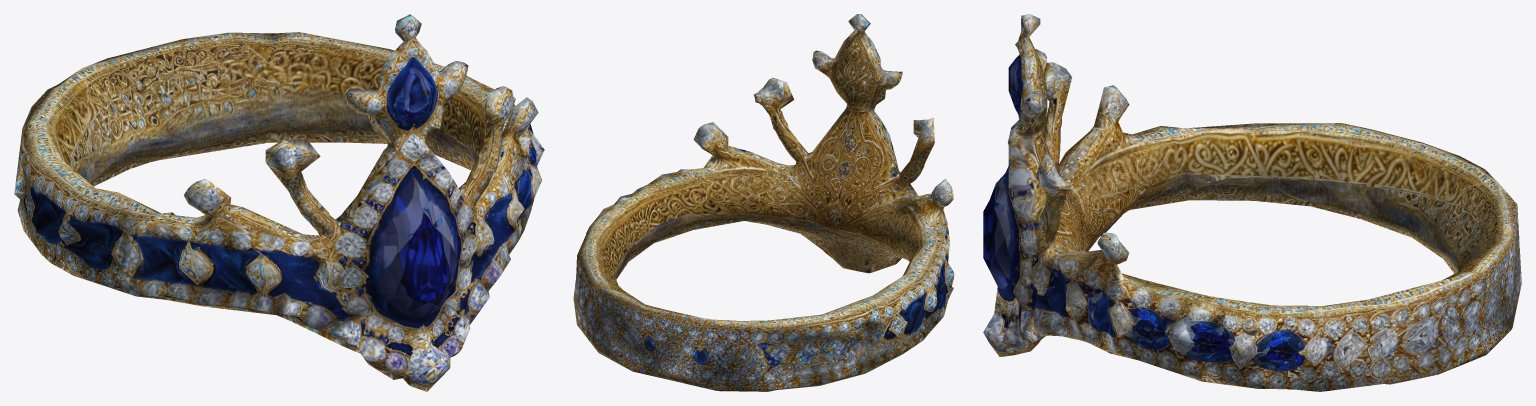
File: Royal_Kings_crown_ornate_jewels_and_gold__0616144502_refine.glb
The picture shows the model from 3 angles, left to right: view 1: azimuth 30°, elevation 25°; view 2: azimuth 150°, elevation 25°; view 3: azimuth 270°, elevation 25°; orthographic projection. The views are drawn at different scales.
Bounding box in the file's own units: 1.1 × 0.8376 × 1.19.
1 material, 1 textured.
